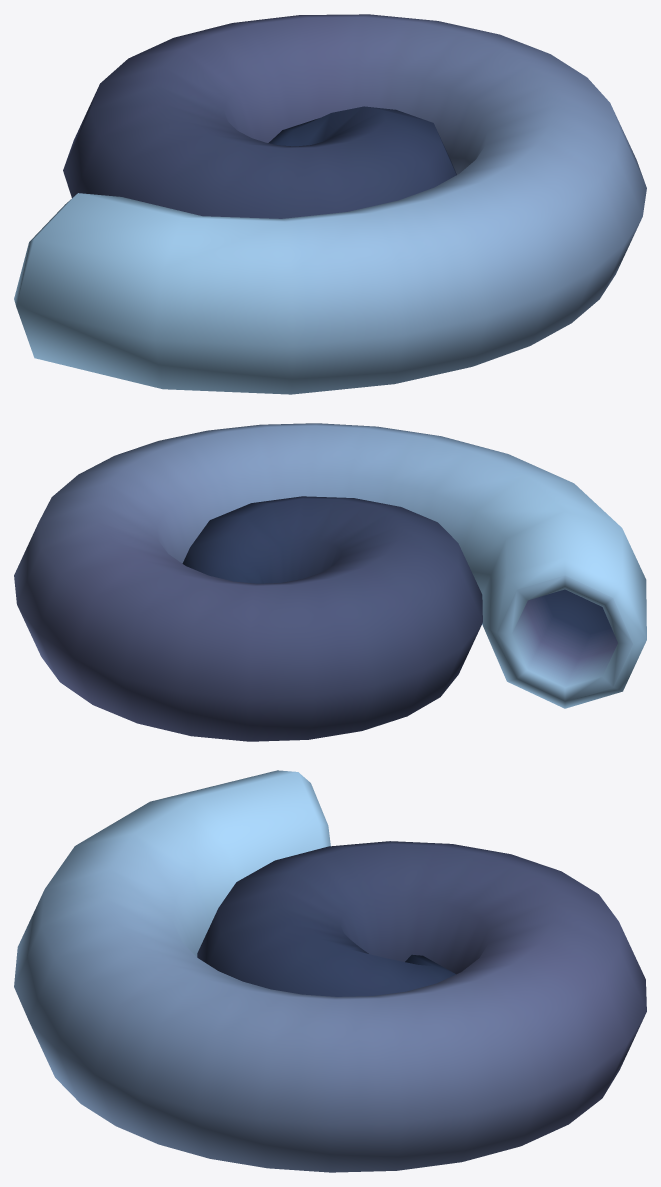
The model's file is Shell_01.fbx.
The picture shows the model from 3 angles, top to bottom: view 1: azimuth 30°, elevation 25°; view 2: azimuth 150°, elevation 25°; view 3: azimuth 270°, elevation 25°; orthographic projection. The views are drawn at different scales.
Parts seen in each view (by area): view 1: Shell_01; view 2: Shell_01; view 3: Shell_01.
Part boxes in pixels (<box>): Shell_01: <box>14,14,646,394</box>; Shell_01: <box>14,423,646,741</box>; Shell_01: <box>14,770,646,1172</box>.
Bounding box in the file's own units: 71.82 × 18.77 × 62.96.
